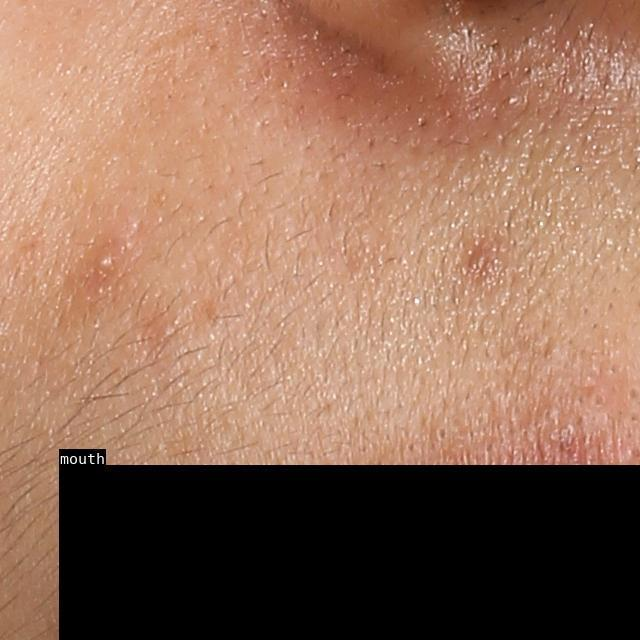comedo: (429, 422, 453, 449), (589, 390, 609, 410)
